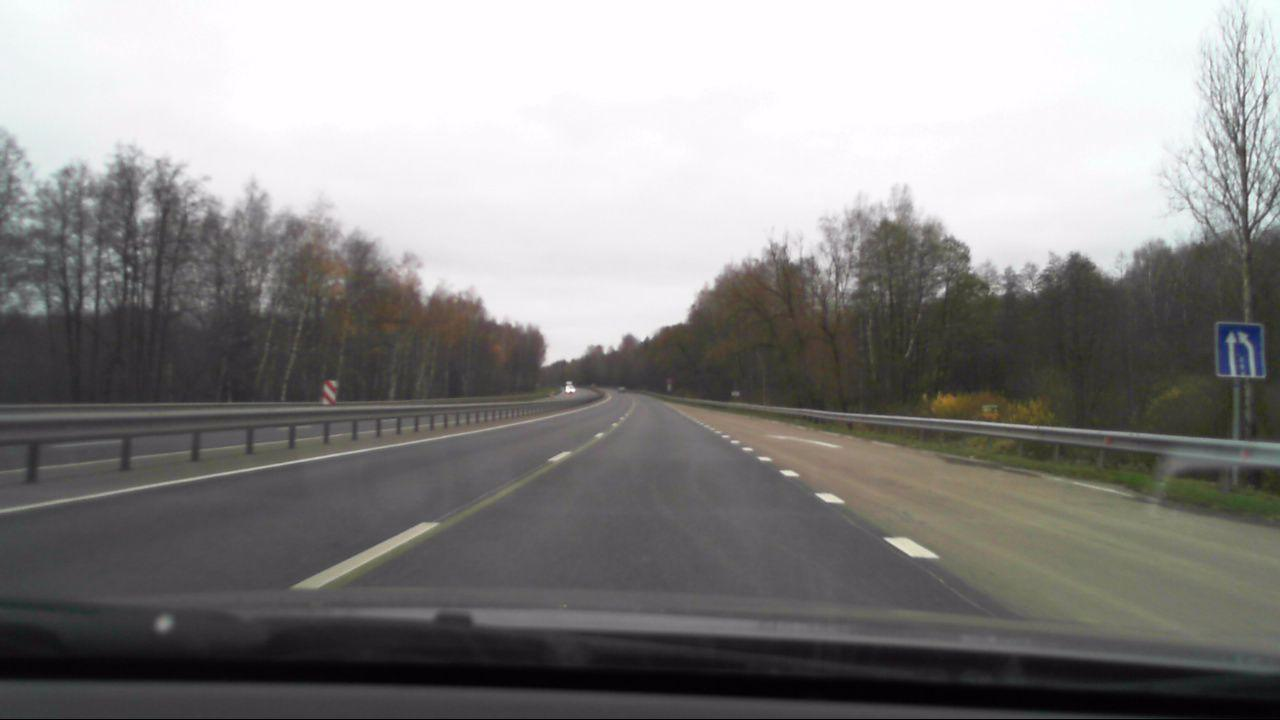5_15_5: (1212, 320, 1265, 381)
8_22_1: (322, 377, 340, 410)
